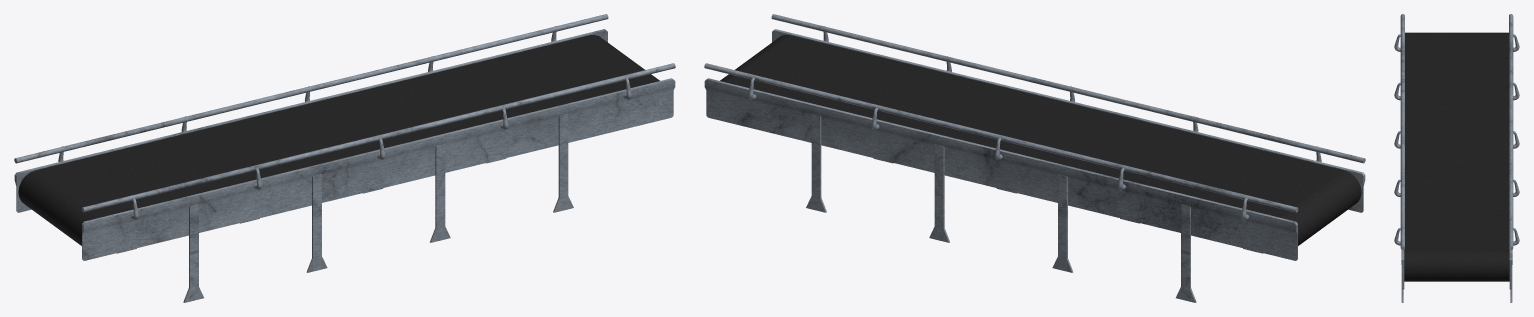
File: C_ConveyorBelt.fbx
The picture shows the model from 3 angles, left to right: view 1: azimuth 30°, elevation 25°; view 2: azimuth 150°, elevation 25°; view 3: azimuth 270°, elevation 25°; orthographic projection. The views are drawn at different scales.
Parts seen in each view (by area): view 1: Belt, Side_02 (×2), RailingHead_01 (×2), Leg_03, Leg_04, Leg_01, Leg_02; view 2: Belt, Side_02 (×2), RailingHead_01 (×2), Leg_03, Leg_04, Leg_01, Leg_02; view 3: Belt, RailingHead_01 (×2), Side_02 (×2), Leg_04 (×2).
Boxes of the visible parts, bbox=[...] form: Belt: bbox=[18, 34, 659, 245]; Side_02 (×2): bbox=[14, 29, 675, 260]; RailingHead_01 (×2): bbox=[14, 14, 675, 212]; Leg_03: bbox=[430, 143, 450, 242]; Leg_04: bbox=[553, 113, 573, 212]; Leg_01: bbox=[183, 204, 203, 302]; Leg_02: bbox=[306, 174, 327, 272]; Belt: bbox=[720, 34, 1361, 245]; Side_02 (×2): bbox=[704, 29, 1365, 260]; RailingHead_01 (×2): bbox=[704, 14, 1365, 212]; Leg_03: bbox=[929, 143, 949, 242]; Leg_04: bbox=[806, 113, 826, 212]; Leg_01: bbox=[1176, 204, 1196, 302]; Leg_02: bbox=[1052, 174, 1073, 272]; Belt: bbox=[1404, 32, 1509, 281]; RailingHead_01 (×2): bbox=[1400, 14, 1513, 250]; Side_02 (×2): bbox=[1401, 250, 1512, 288]; Leg_04 (×2): bbox=[1401, 266, 1512, 302].
Bounding box in the file's own units: 19.2 × 3.71 × 4.37.
